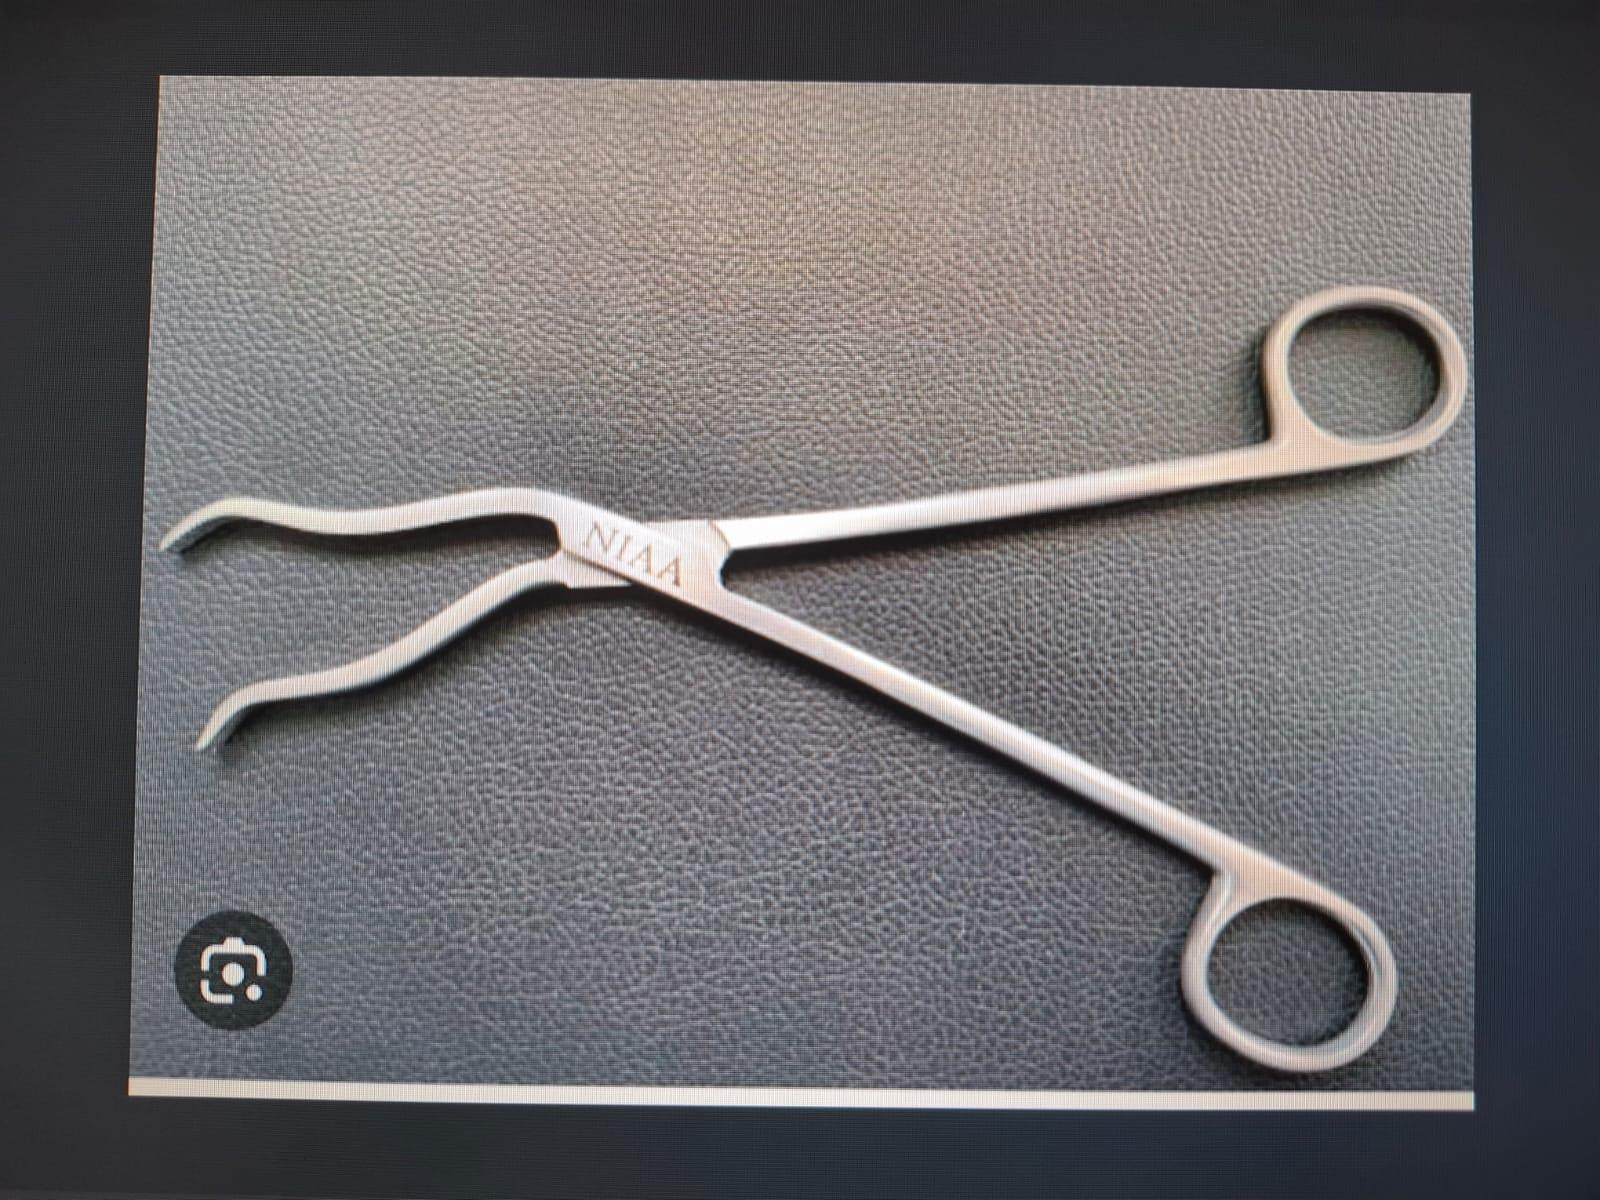Cheatle Forceps: (160, 278, 1468, 1066)
